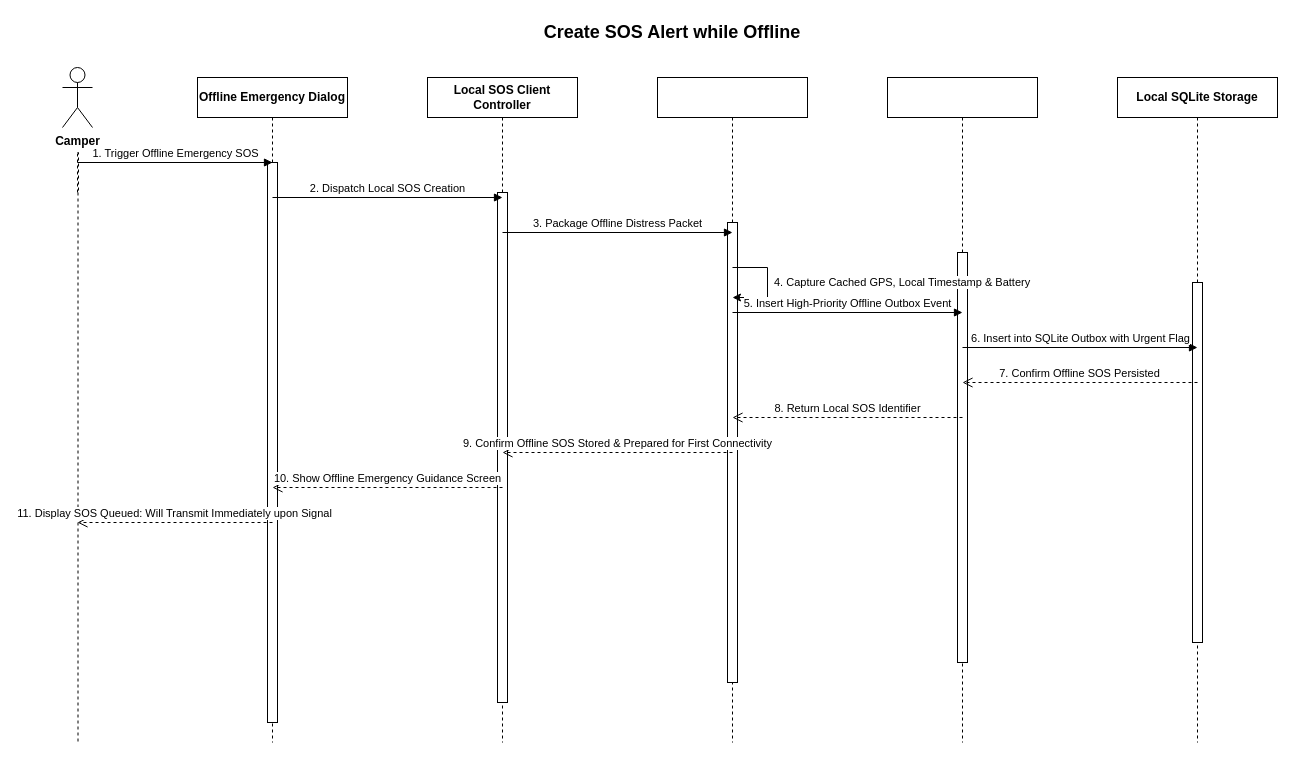
This 1295x760 diagram has some shape labels left out. Here are the shapes that lost their labels. From the top down, the box of each, then its label:
(656, 76, 808, 742): Offline SOS Queue Service
(886, 76, 1038, 742): Local SOS Record Model
